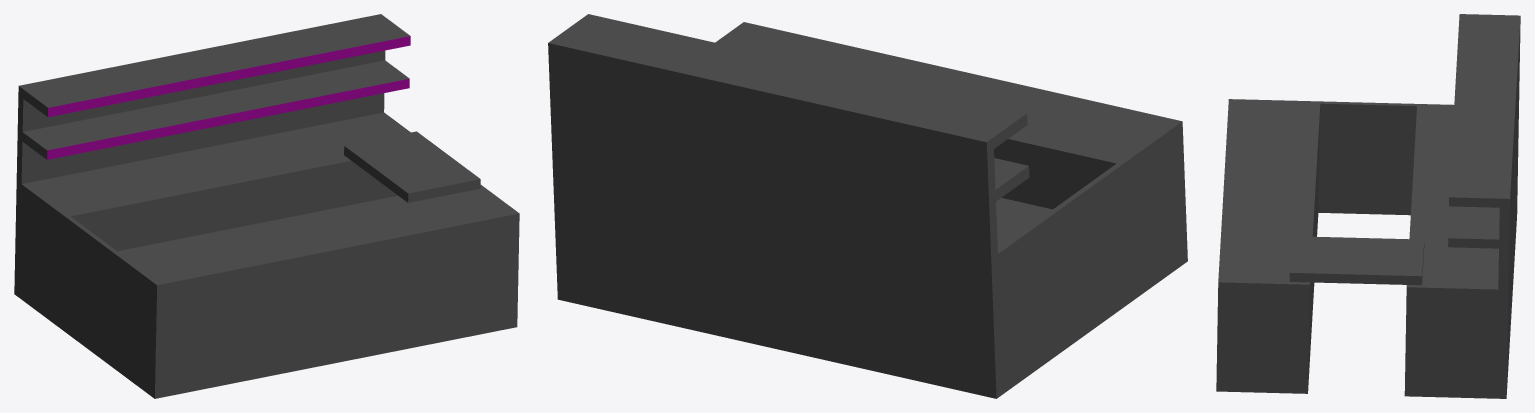
The model's file is BarSpace.fbx.
The picture shows the model from 3 angles, left to right: view 1: azimuth 30°, elevation 25°; view 2: azimuth 150°, elevation 25°; view 3: azimuth 270°, elevation 25°; orthographic projection. The views are drawn at different scales.
Parts seen in each view (by area): view 1: pCube1, pCube2, pCube4, pCube5, pCube6, pCube3, pCube7; view 2: pCube2, pCube4, pCube1, pCube6, pCube7, pCube5; view 3: pCube1, pCube2, pCube7, pCube6, pCube3, pCube4, pCube5.
Part boxes in pixels (x1,y1,x2,y2): pCube1: (110,185,519,398); pCube2: (14,112,410,330); pCube4: (16,14,385,183); pCube5: (22,60,409,159); pCube6: (23,17,410,117); pCube3: (344,131,480,202); pCube7: (63,216,116,365); pCube2: (552,160,1063,398); pCube4: (548,38,997,258); pCube1: (715,22,1187,304); pCube6: (555,14,1027,148); pCube7: (1053,163,1127,350); pCube5: (994,158,1029,201); pCube1: (1216,99,1320,393); pCube2: (1404,104,1518,398); pCube7: (1318,101,1417,215); pCube6: (1449,14,1510,207); pCube3: (1289,236,1424,285); pCube4: (1498,15,1520,289); pCube5: (1448,206,1499,248).
Size of the model in its own units: 4.14 by 2.33 by 2.99.
